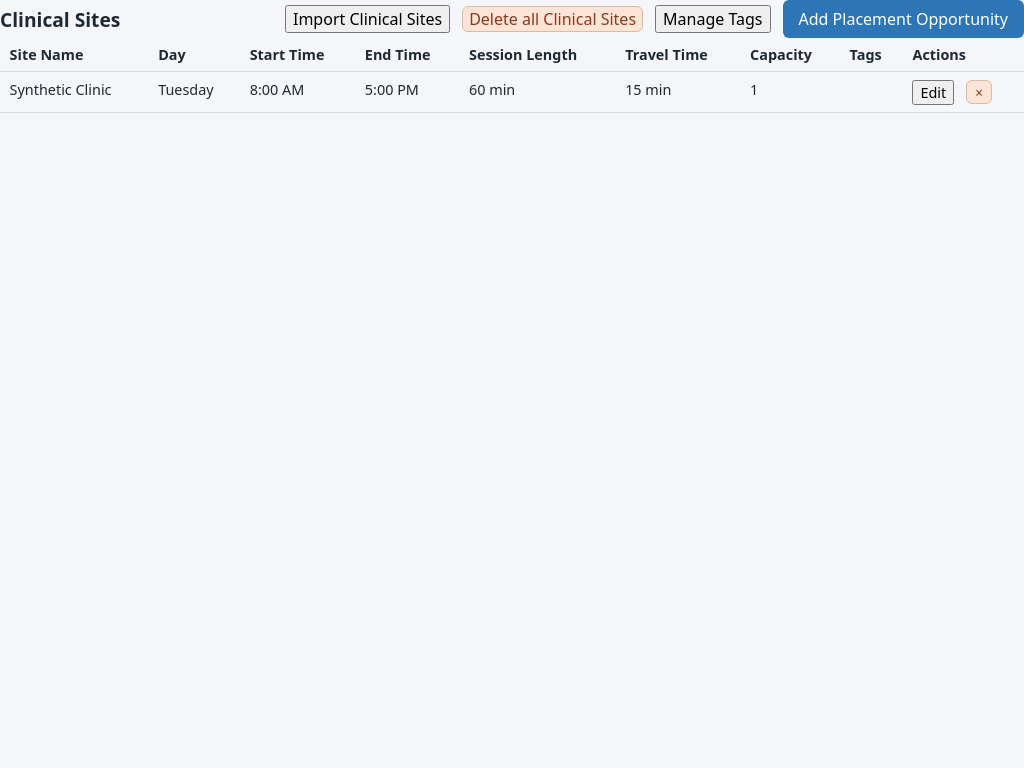
Scenario: ClinicalSitesPage › states the placement count when deleting an in-use opportunity
Click the button named "Delete Synthetic Clinic": (979, 92) x1=966 y1=80 x2=992 y2=104
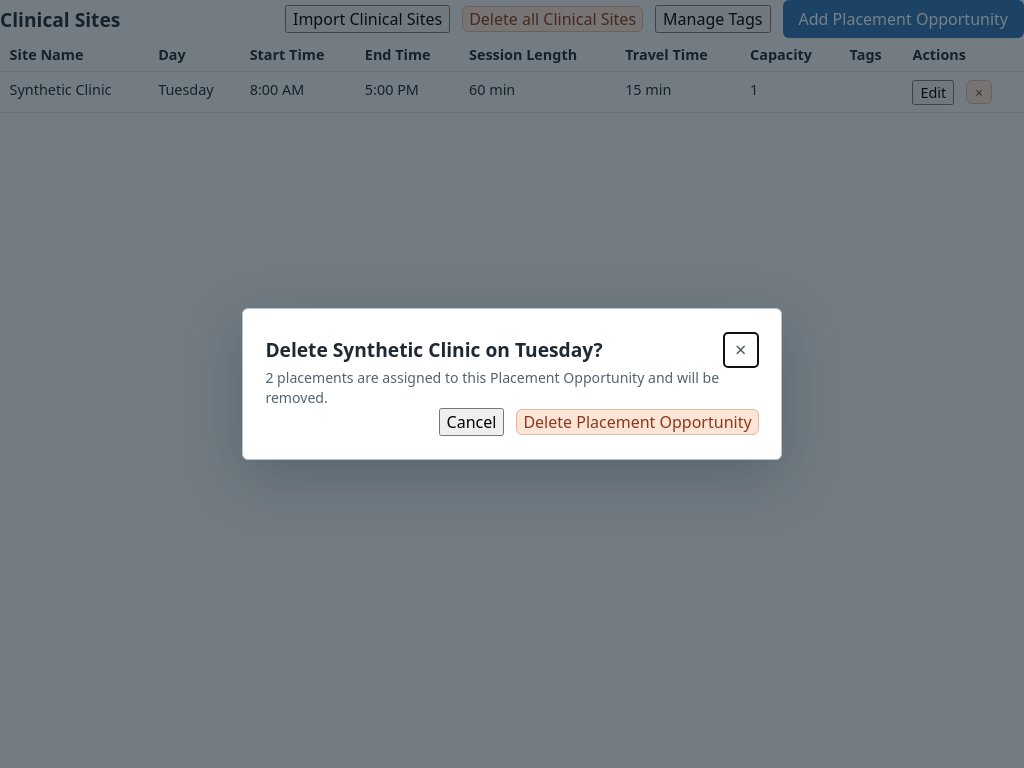
Expected: the text "2 placements are assigned" is shown, x1=265 y1=368 x2=719 y2=407
